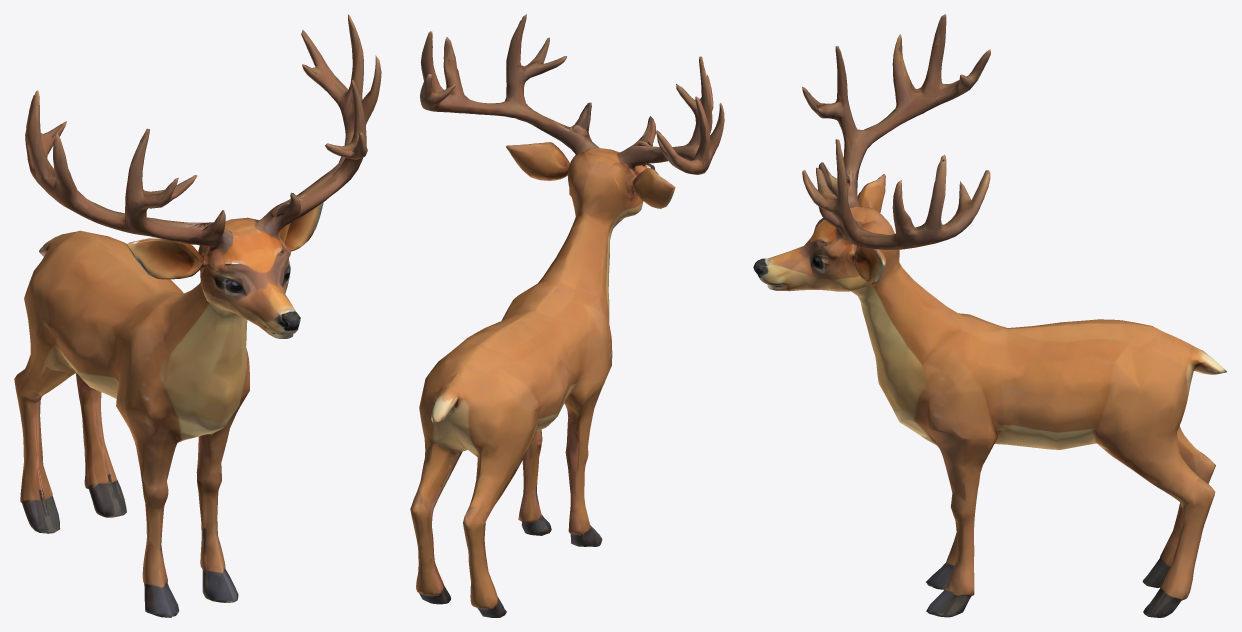
Rendered from asset.glb.
The picture shows the model from 3 angles, left to right: view 1: azimuth 30°, elevation 25°; view 2: azimuth 150°, elevation 25°; view 3: azimuth 270°, elevation 25°; orthographic projection. The views are drawn at different scales.
Size of the model in its own units: 1.27 by 2 by 1.68.
1 material, 1 textured.
